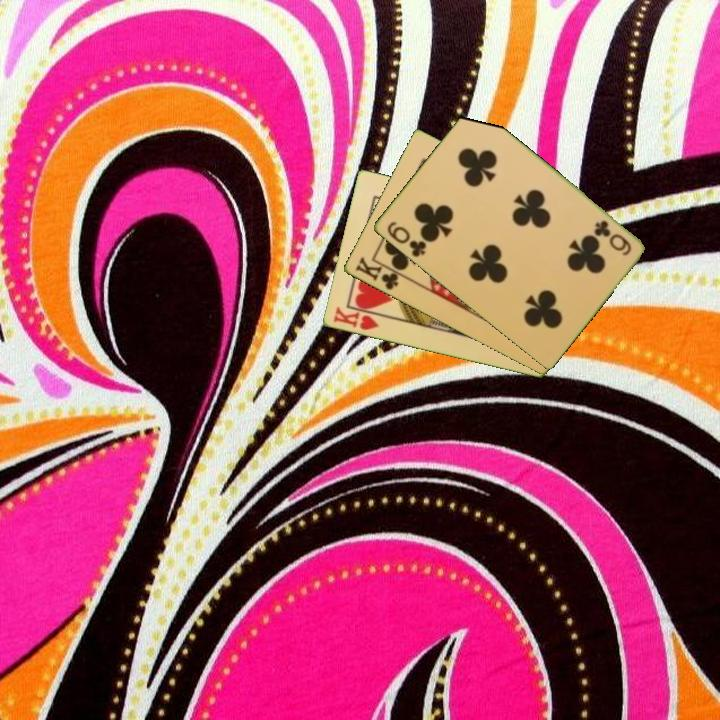6c: (383, 218, 429, 260), (590, 217, 634, 259)
Kc: (351, 253, 407, 293)
Kh: (329, 303, 387, 333)
